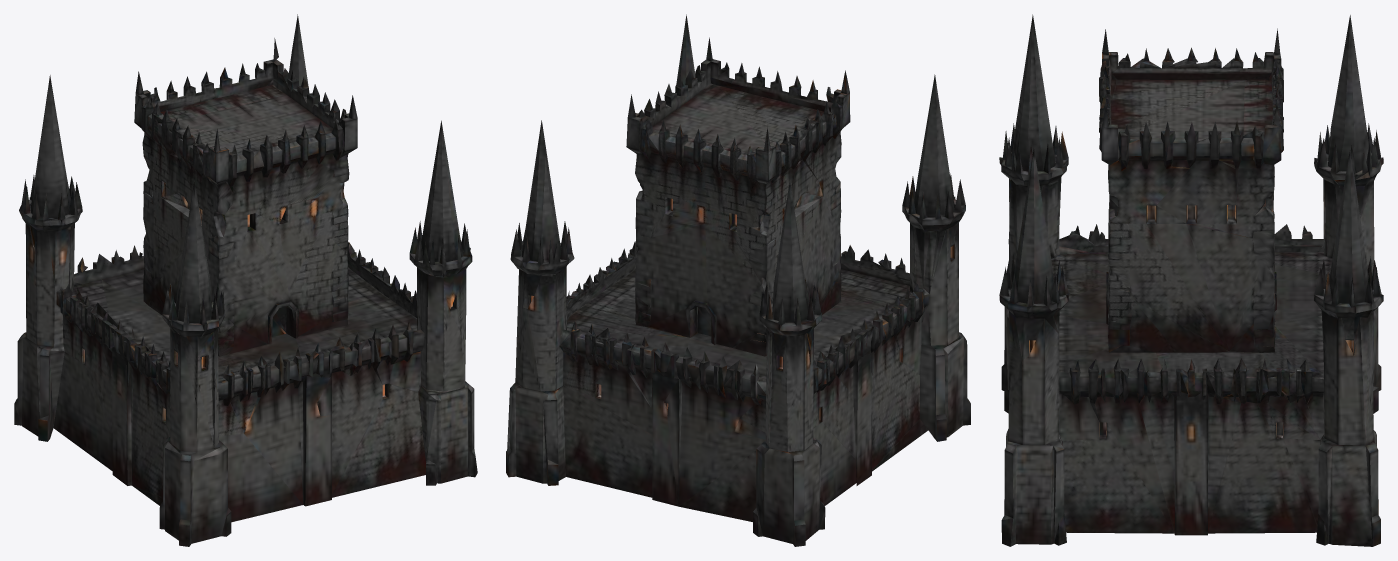
Rendered from prop-fortress-keep.glb.
3 renders of one model, left to right at view 1: azimuth 30°, elevation 25°; view 2: azimuth 150°, elevation 25°; view 3: azimuth 270°, elevation 25°, orthographic. The views are drawn at different scales.
Size of the model in its own units: 1.63 by 1.9 by 1.64.
Materials: 1 (1 with a texture image).
